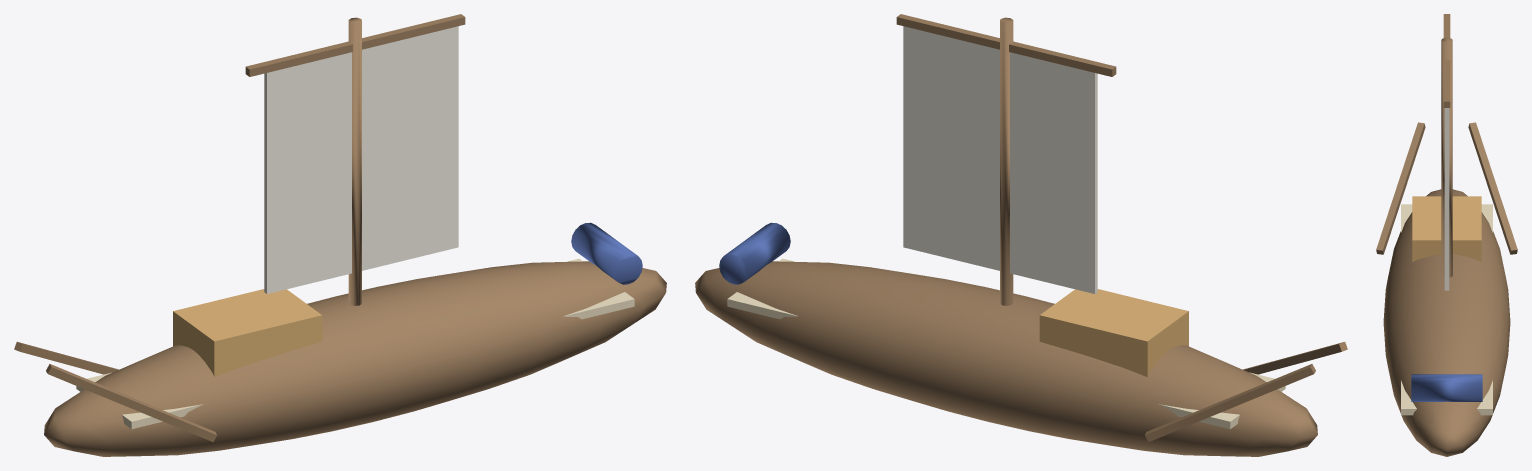
File: prop_ship.glb
The picture shows the model from 3 angles, left to right: view 1: azimuth 30°, elevation 25°; view 2: azimuth 150°, elevation 25°; view 3: azimuth 270°, elevation 25°; orthographic projection. The views are drawn at different scales.
Parts seen in each view (by area): view 1: Prop_ship; view 2: Prop_ship; view 3: Prop_ship.
Part boxes in pixels (x1,y1,x2,y2): Prop_ship: (14,14,666,456); Prop_ship: (695,14,1347,456); Prop_ship: (1376,14,1517,456).
Size of the model in its own units: 5.31 by 3.15 by 1.23.
